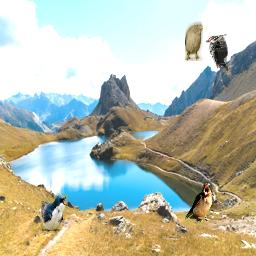Sparrow: (185, 21, 203, 61)
Swallow: (185, 182, 214, 222), (41, 193, 68, 233)
Woodpecker: (206, 34, 228, 74)
